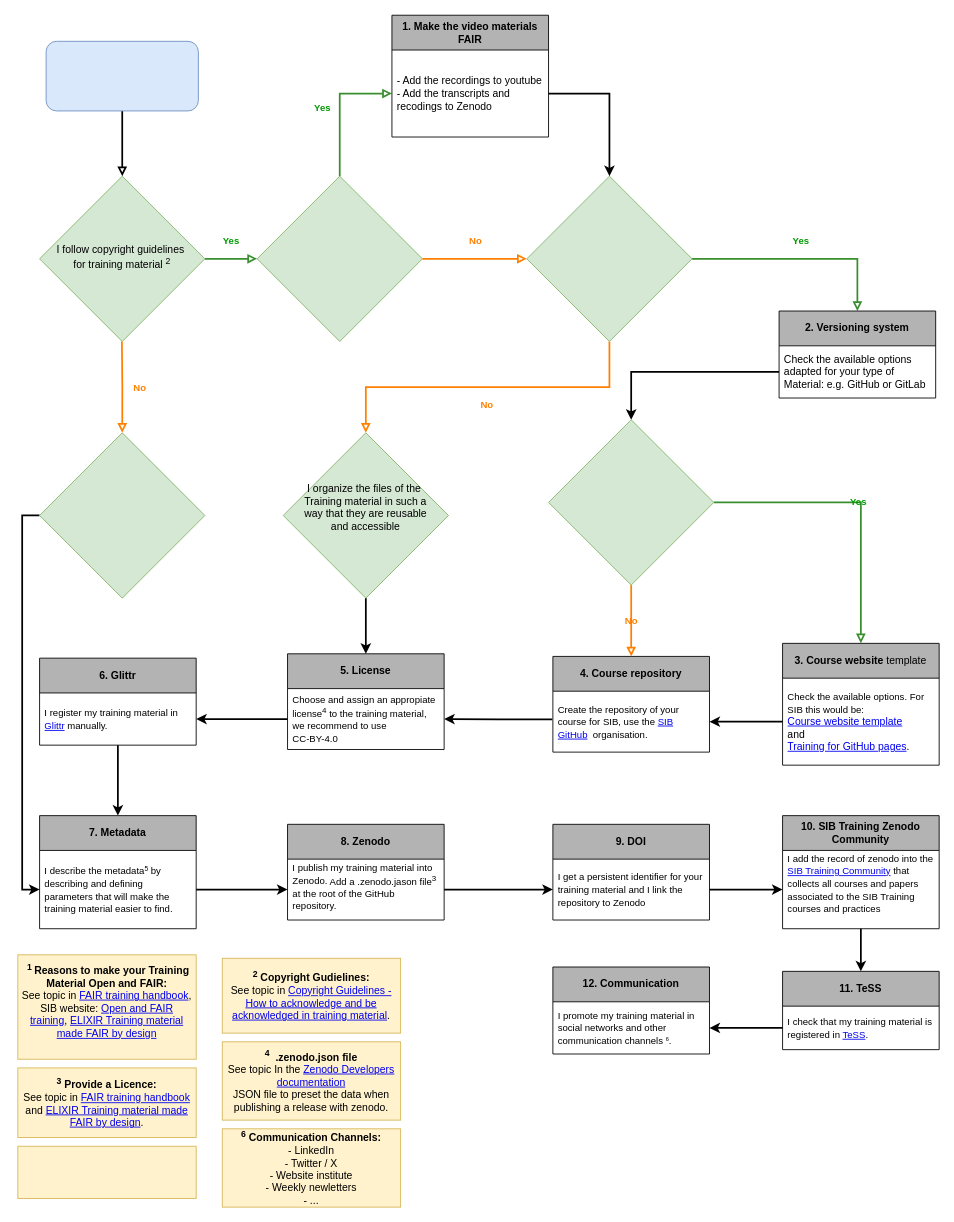
This 954x1222 diagram has some shape labels left out. Here are the shapes that lost their labels. From the top down, the centre of each, then its label:
pixel 121 75: I am planning to make my training material Open and FAIR 1
pixel 339 258: I recorded a video of the course as part of the training material
pixel 609 258: I use a versioning system to implement document version control
pixel 122 515: The Training material cannot be published, only the metadata
pixel 631 502: I create a github page to host and deliver training
pixel 106 1171: 5 Metadata: More information on providing metadata in FAIR training handbook
